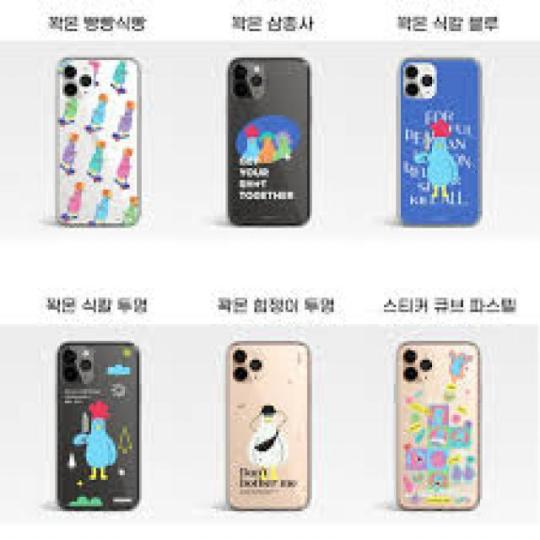phone: (36, 55, 159, 233), (384, 61, 493, 232), (219, 340, 314, 516), (50, 342, 145, 511), (390, 340, 480, 512), (230, 49, 315, 227)
